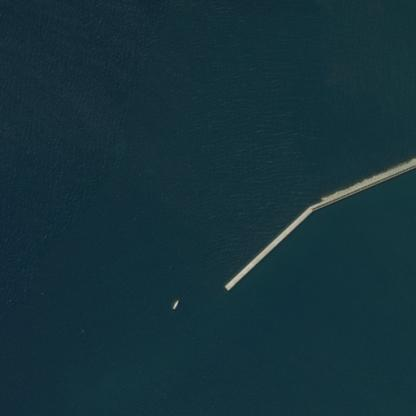ship: (5, 300, 11, 309)
